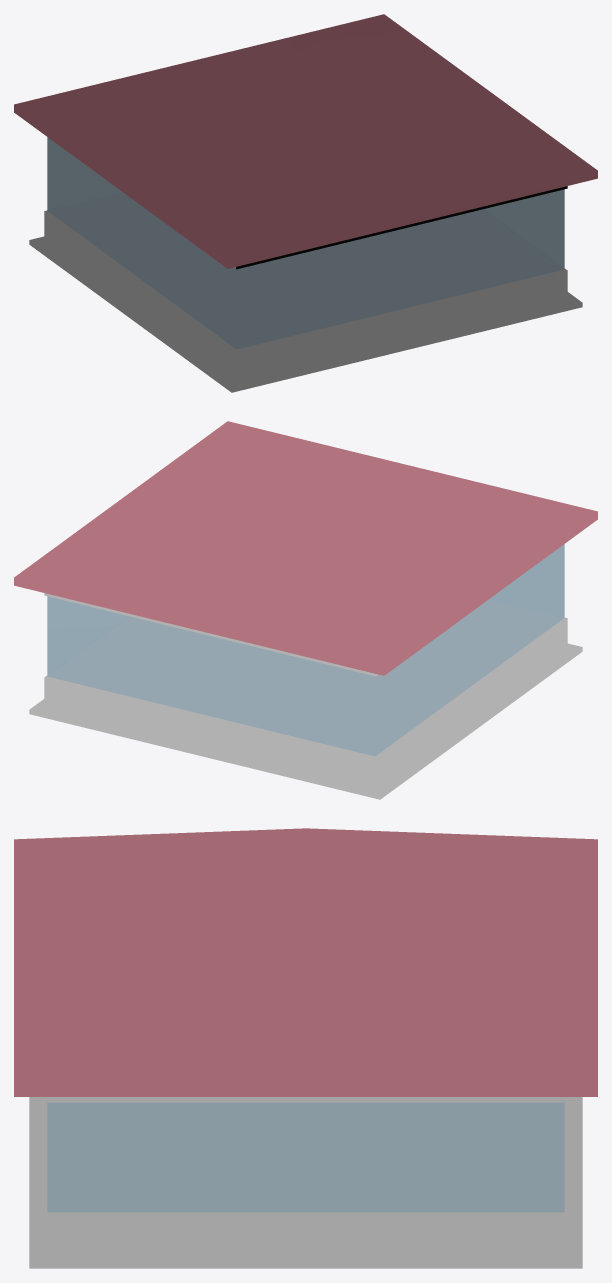
3 renders of one model, top to bottom at view 1: azimuth 30°, elevation 25°; view 2: azimuth 150°, elevation 25°; view 3: azimuth 270°, elevation 25°, orthographic. The views are drawn at different scales.
Visible parts, largest first — view 1: Cube.19; view 2: Cube.19; view 3: Cube.19.
Boxes of the visible parts, <box> form: Cube.19: <box>14,14,597,392</box>; Cube.19: <box>14,421,597,799</box>; Cube.19: <box>14,828,597,1268</box>.
Bounding box in the file's own units: 177 × 108 × 177.
